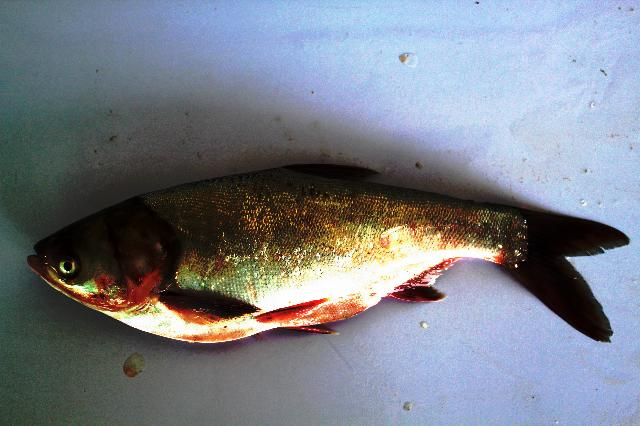Healthy Fish: (28, 164, 629, 342)
